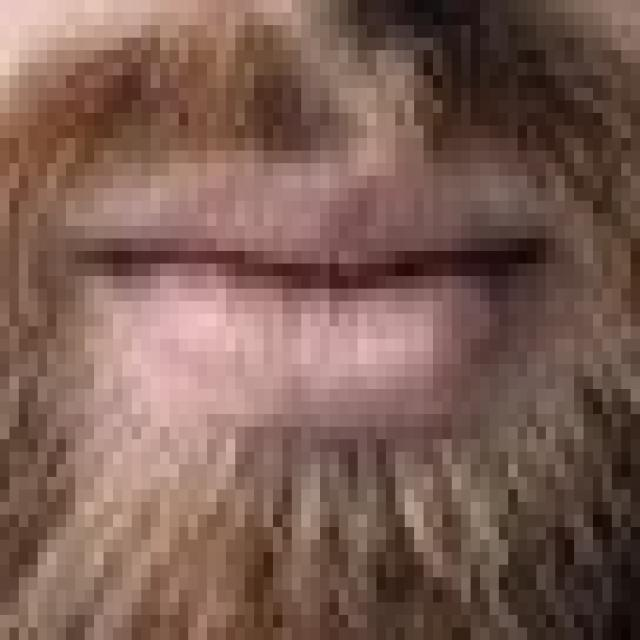closed-mouth: (57, 188, 556, 427)
